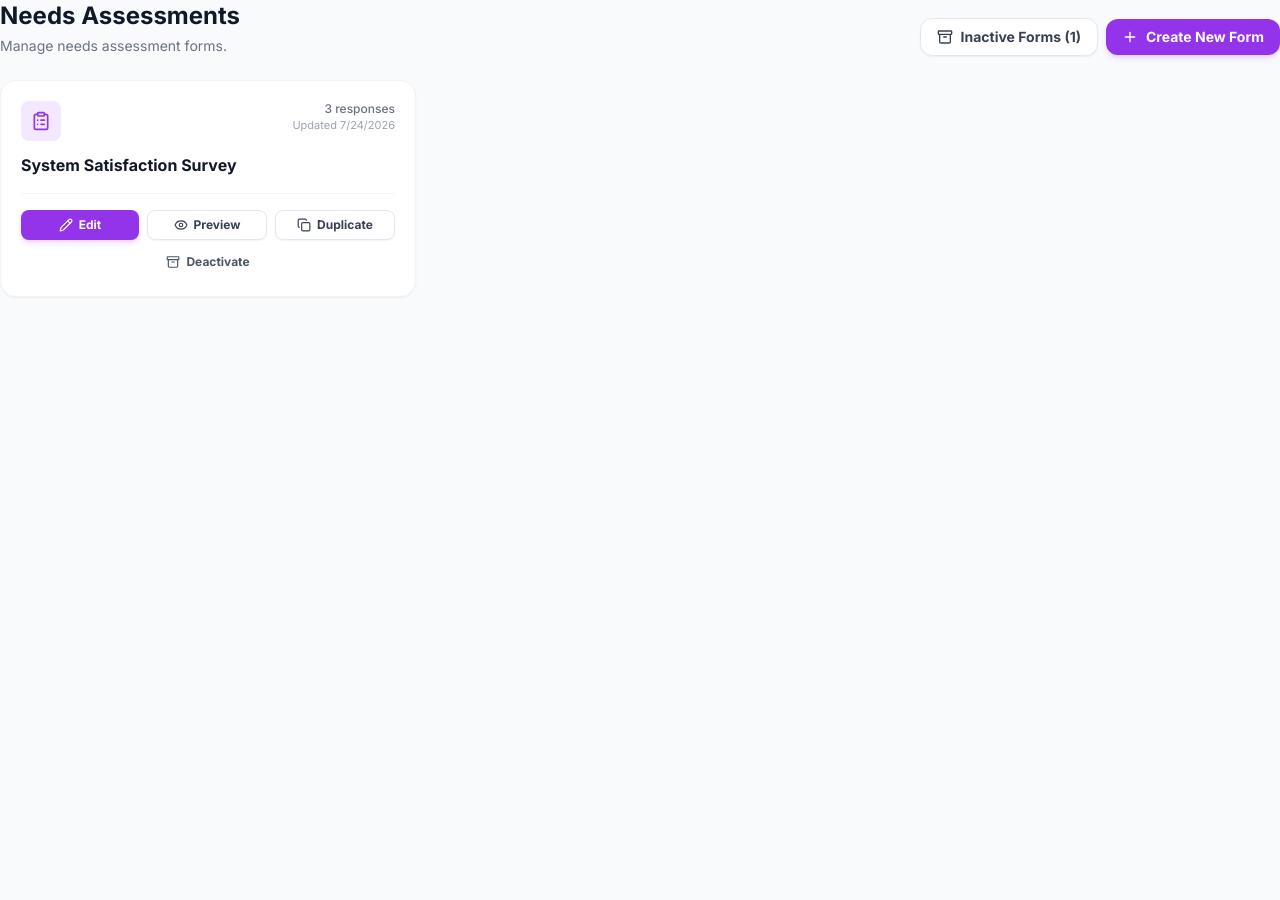
Test: CareStaffFormsPage › duplicates a form with its questions so a later run stays comparable
Click the button "Duplicate": (335, 225) [275, 210, 395, 240]
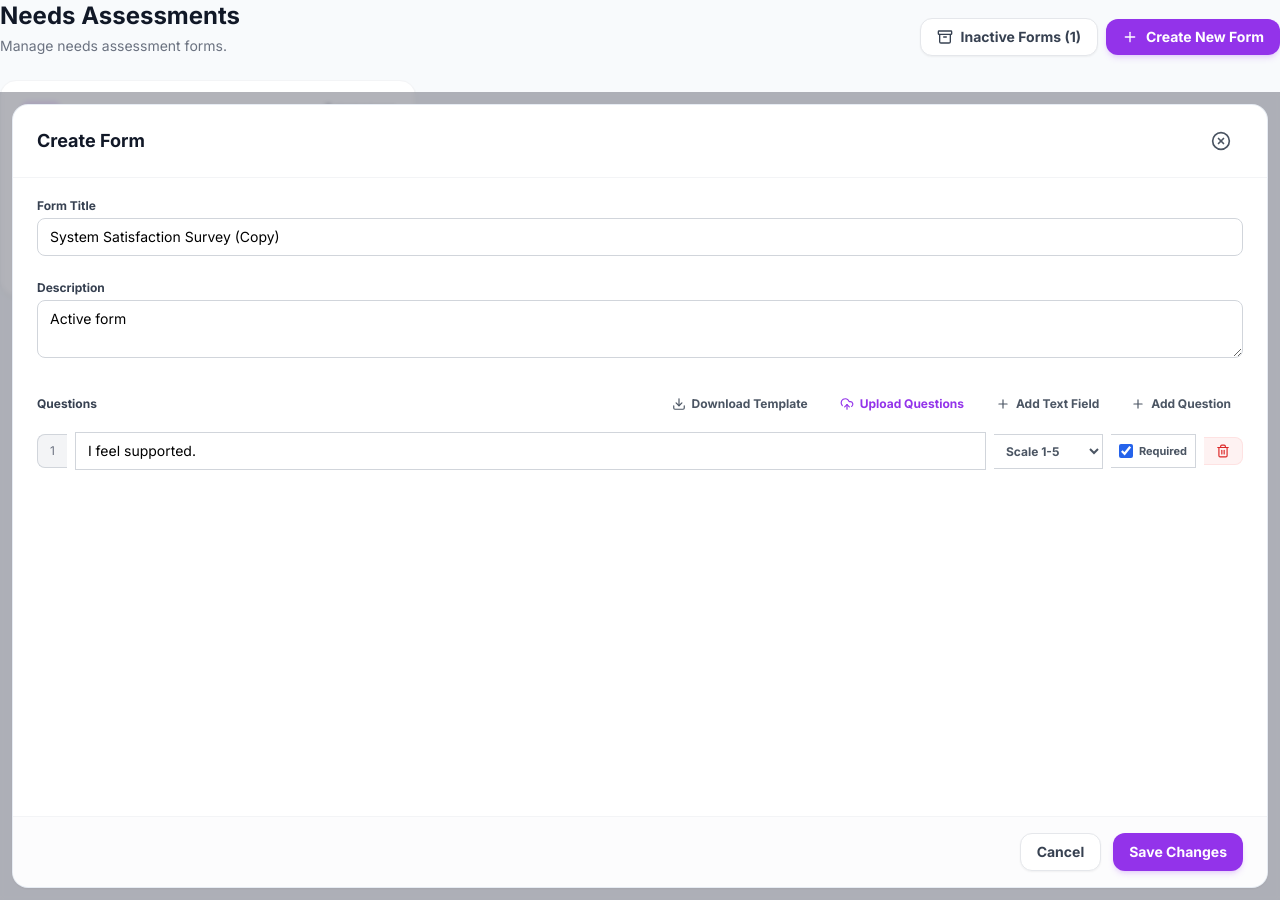
Now the field showing "System Satisfaction Survey (Copy)" is shown, box [37, 218, 1243, 256]
Now the field showing "I feel supported." is shown, box [75, 432, 986, 470]
